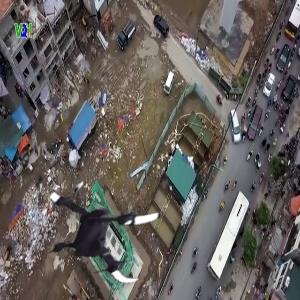drone: (27, 162, 165, 300)
